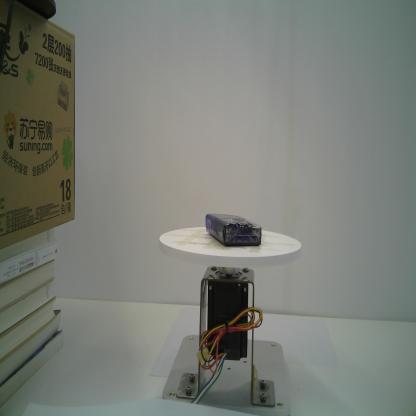Gum: (204, 210, 265, 248)
